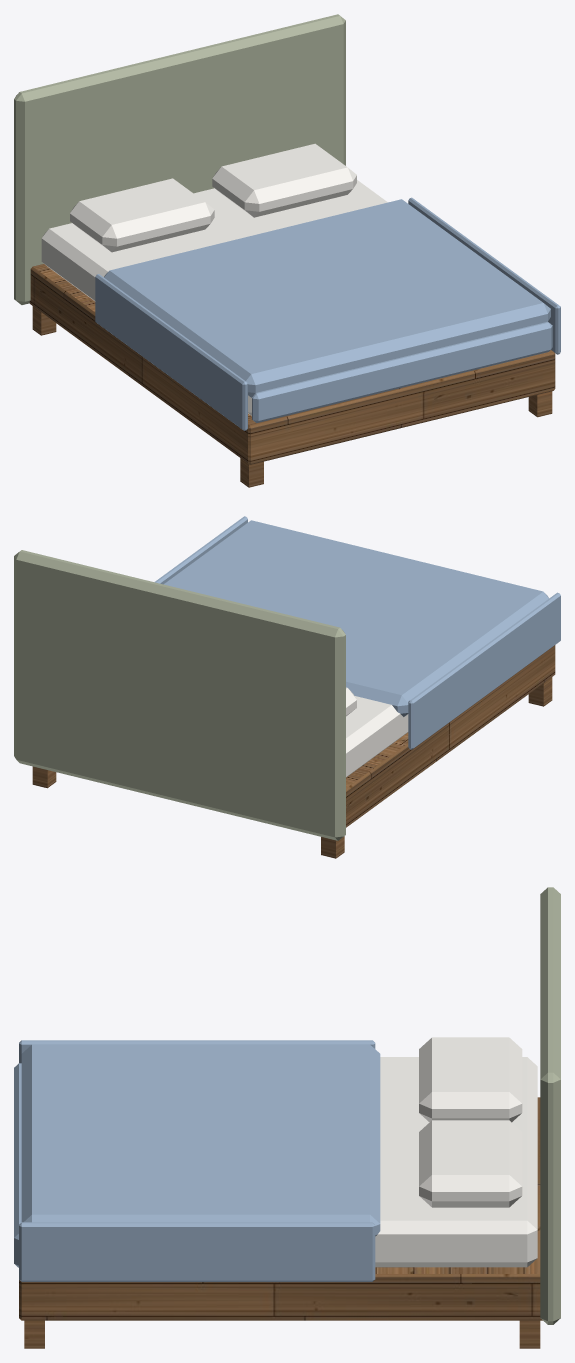
Rendered from bed_a.glb.
3 renders of one model, top to bottom at view 1: azimuth 30°, elevation 25°; view 2: azimuth 150°, elevation 25°; view 3: azimuth 270°, elevation 25°, orthographic. The views are drawn at different scales.
Visible parts, largest first — view 1: bed_a_bed_b, bed_a_fabric2, bed_a_bed_w, bed_a_timber; view 2: bed_a_fabric2, bed_a_bed_b, bed_a_timber, bed_a_bed_w; view 3: bed_a_bed_b, bed_a_bed_w, bed_a_timber, bed_a_fabric2.
Boxes of the visible parts, x1=… form: bed_a_bed_b: x1=95, y1=197, x2=560, y2=430; bed_a_fabric2: x1=14, y1=14, x2=345, y2=304; bed_a_bed_w: x1=41, y1=143, x2=387, y2=415; bed_a_timber: x1=29, y1=264, x2=555, y2=487; bed_a_fabric2: x1=14, y1=550, x2=345, y2=840; bed_a_bed_b: x1=154, y1=516, x2=560, y2=749; bed_a_timber: x1=32, y1=645, x2=555, y2=858; bed_a_bed_w: x1=346, y1=687, x2=408, y2=777; bed_a_bed_b: x1=14, y1=1040, x2=380, y2=1281; bed_a_bed_w: x1=375, y1=1037, x2=537, y2=1267; bed_a_timber: x1=19, y1=1097, x2=542, y2=1348; bed_a_fabric2: x1=540, y1=887, x2=560, y2=1324.
Size of the model in its own units: 1.76 by 1.2 by 2.12.
Materials: 4 (1 with a texture image).
